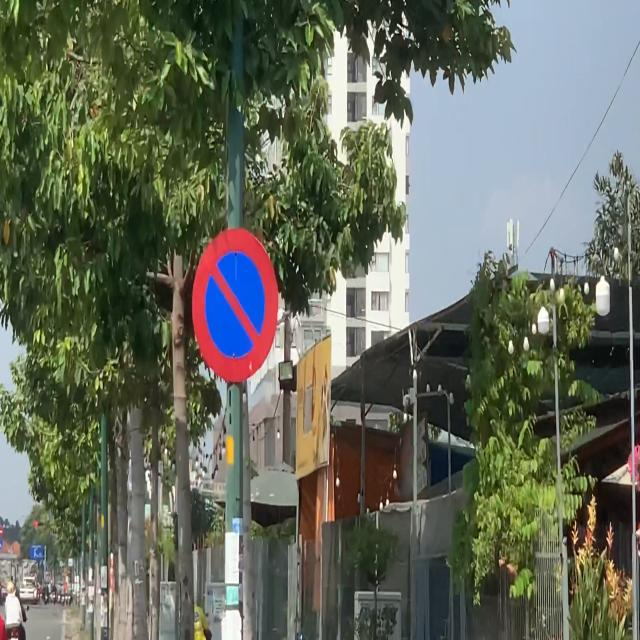Cam do: (191, 229, 278, 388)
